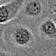cell: (25, 17, 38, 29), (25, 1, 38, 13), (9, 14, 21, 26), (47, 40, 56, 54), (34, 31, 45, 42), (18, 31, 30, 41), (42, 6, 52, 18), (10, 42, 23, 51), (40, 15, 49, 27), (28, 47, 39, 56), (1, 30, 8, 42), (48, 23, 56, 33)
